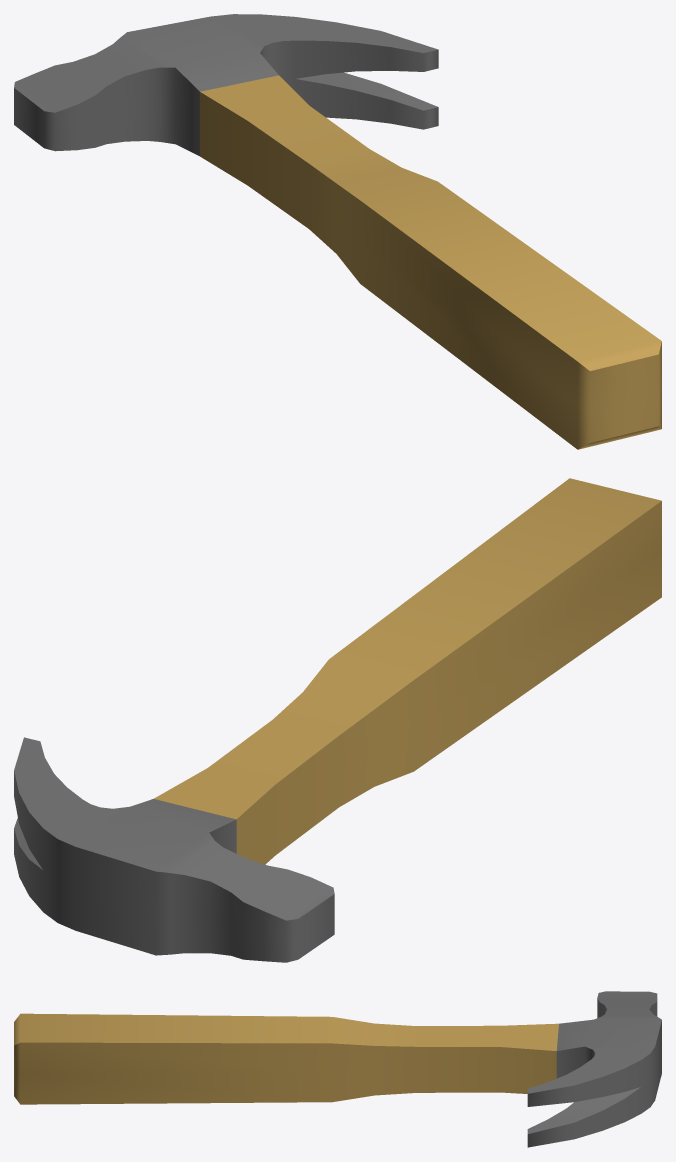
File: Martelo.fbx
3 renders of one model, top to bottom at view 1: azimuth 30°, elevation 25°; view 2: azimuth 150°, elevation 25°; view 3: azimuth 270°, elevation 25°, orthographic. The views are drawn at different scales.
Visible parts, largest first — view 1: Martelo; view 2: Martelo; view 3: Martelo.
Boxes of the visible parts, bbox=[...] form: Martelo: bbox=[14, 14, 661, 449]; Martelo: bbox=[14, 478, 661, 962]; Martelo: bbox=[14, 991, 661, 1147].
Size of the model in its own units: 24.12 by 6 by 56.8.
